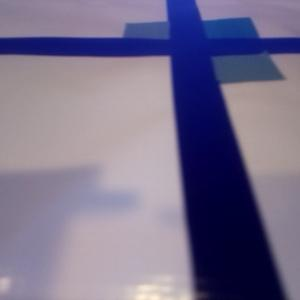bottom_right: (172, 39, 283, 81)
top_left: (123, 22, 204, 56)
top_right: (170, 18, 259, 55)
